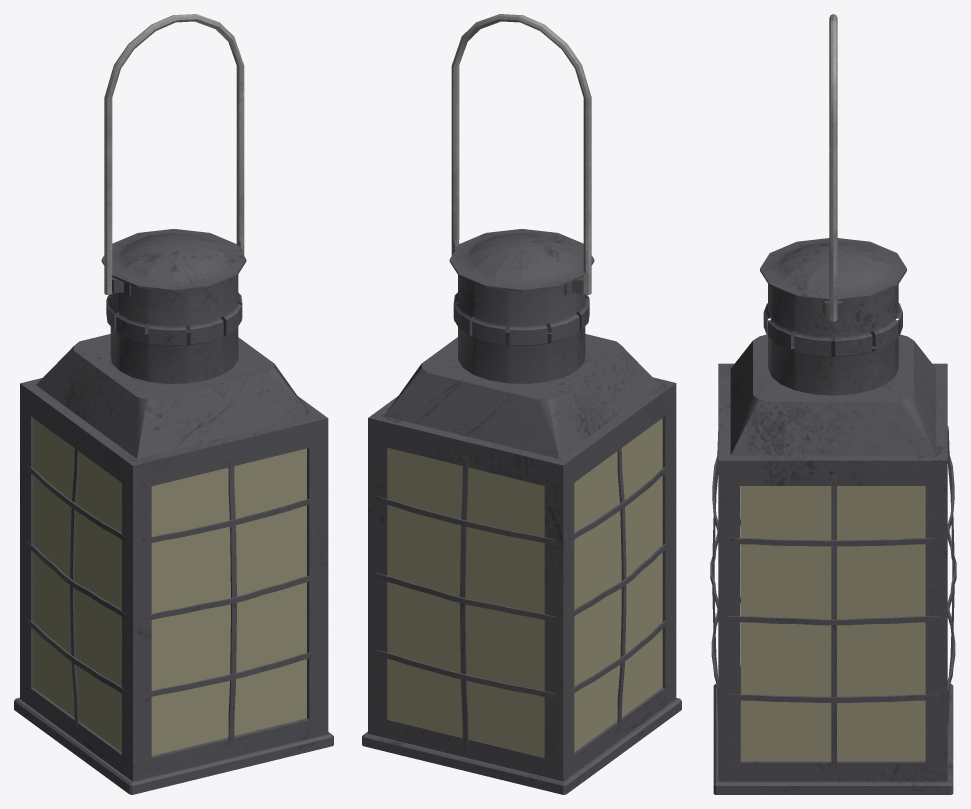
The model's file is oil_lantern.obj.
The picture shows the model from 3 angles, left to right: view 1: azimuth 30°, elevation 25°; view 2: azimuth 150°, elevation 25°; view 3: azimuth 270°, elevation 25°; orthographic projection.
Parts seen in each view (by area): view 1: pCube43; view 2: pCube43; view 3: pCube43.
Part boxes in pixels (<box>): pCube43: <box>14,14,333,794</box>; pCube43: <box>362,14,681,794</box>; pCube43: <box>710,14,956,794</box>.
Size of the model in its own units: 17.13 by 55.54 by 17.13.
2 materials, 2 textured.
